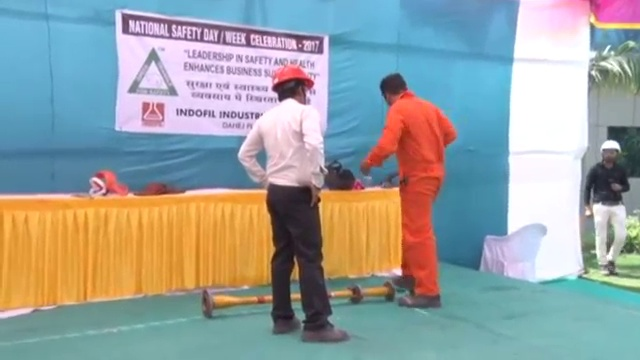helmet: (268, 63, 315, 92), (599, 139, 623, 156)
helmet_off: (379, 71, 410, 106)
helmet_on: (269, 63, 314, 107), (599, 137, 622, 170)
person: (238, 62, 349, 340), (360, 70, 456, 311), (583, 138, 632, 277)
